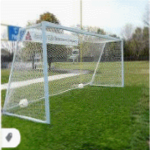goals: (3, 20, 126, 126)
